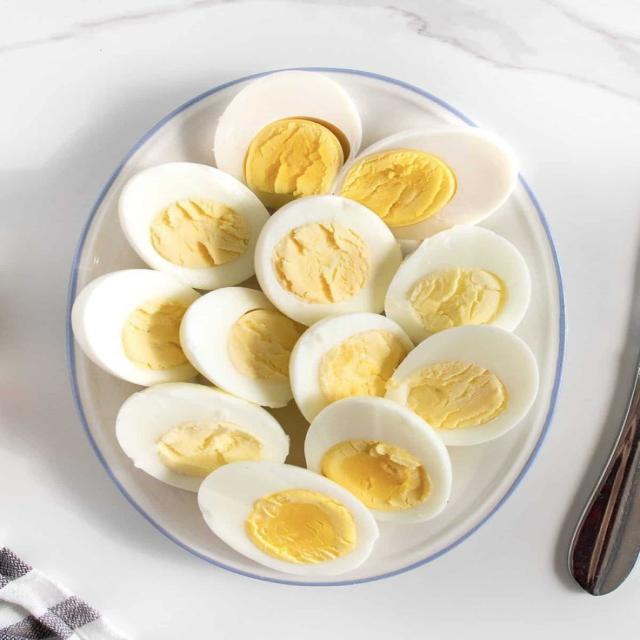eggs: (107, 74, 528, 576)
